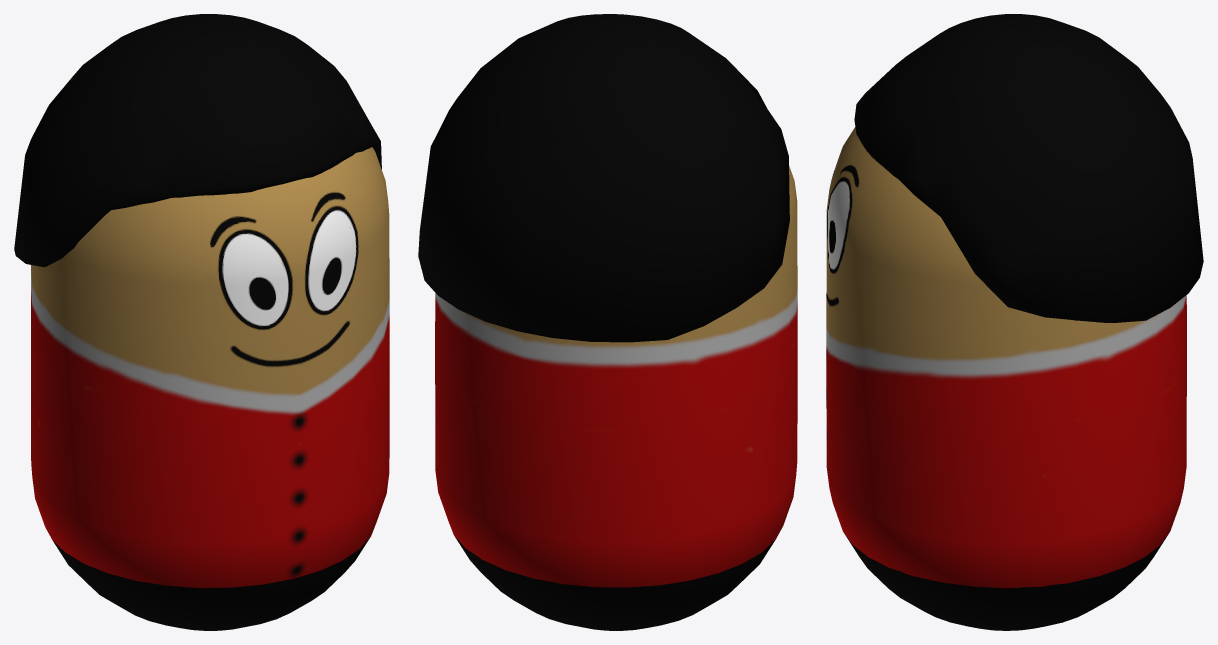
The model's file is ManCharacter (1).fbx.
3 views of the same model, side by side, from view 1: azimuth 30°, elevation 25°; view 2: azimuth 150°, elevation 25°; view 3: azimuth 270°, elevation 25° (orthographic).
Visible parts, largest first — view 1: Man1; view 2: Man1; view 3: Man1.
Part boxes in pixels (box(x1,y1,x2,y2)): Man1: box(14, 14, 389, 630); Man1: box(418, 14, 797, 630); Man1: box(826, 14, 1203, 630).
Bounding box in the file's own units: 367 × 617 × 362.
1 material, 1 textured.
